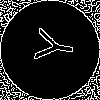Y: (25, 25, 76, 66)
